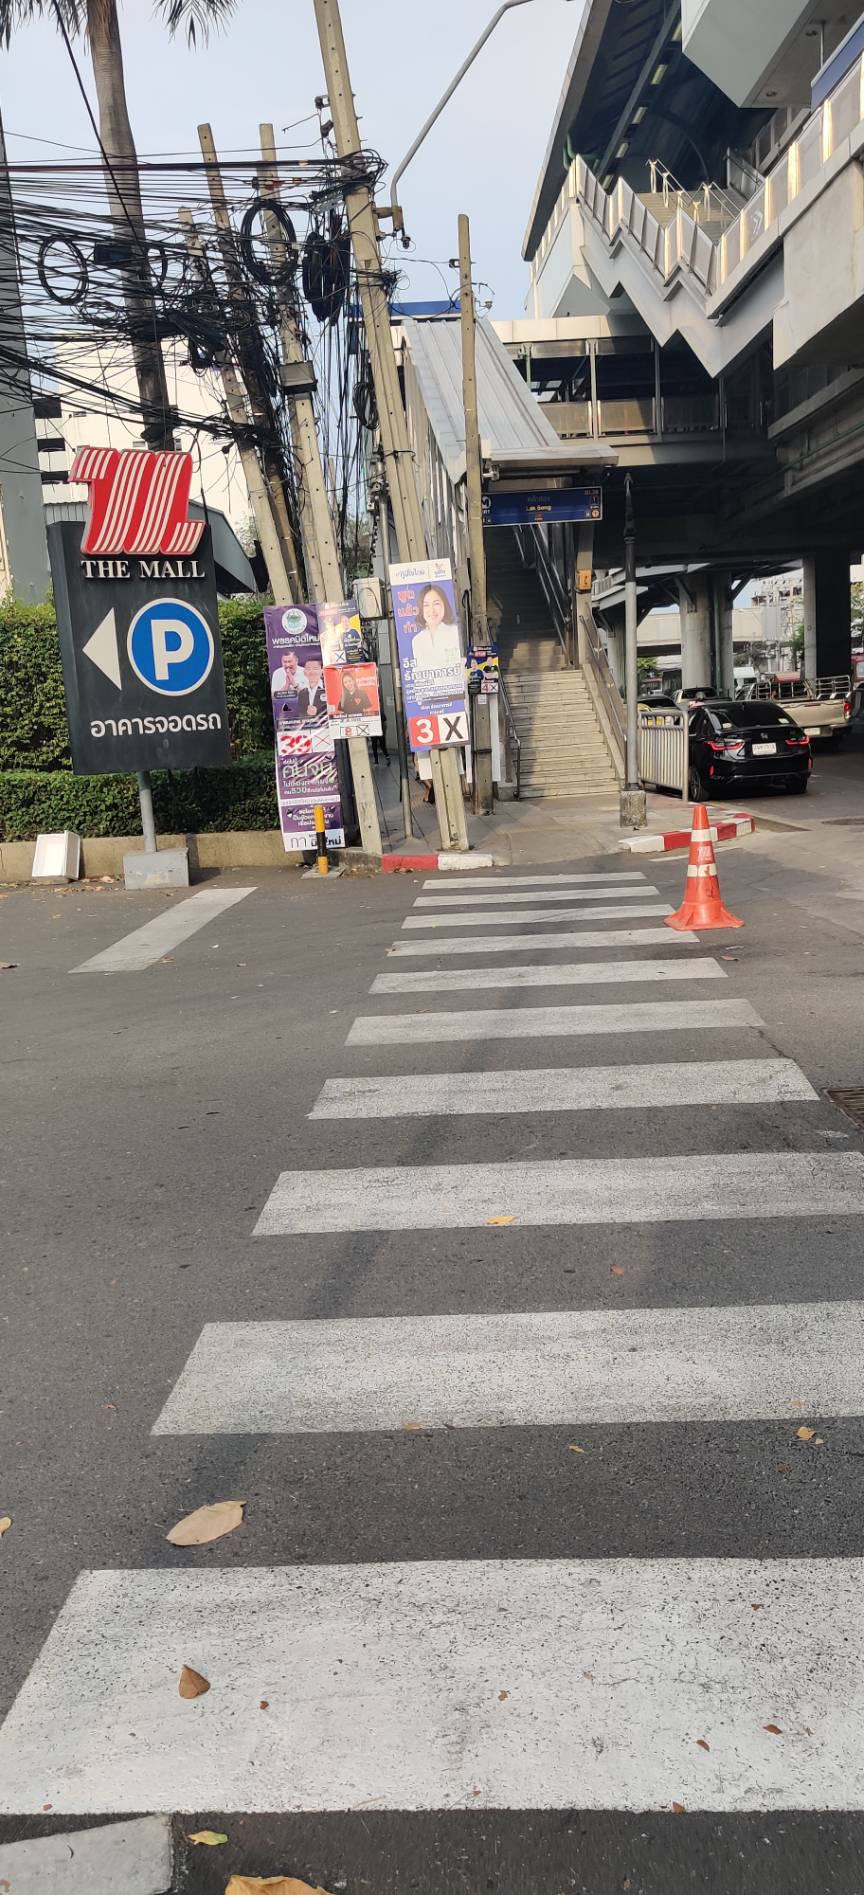Banner: (388, 566, 471, 752)
